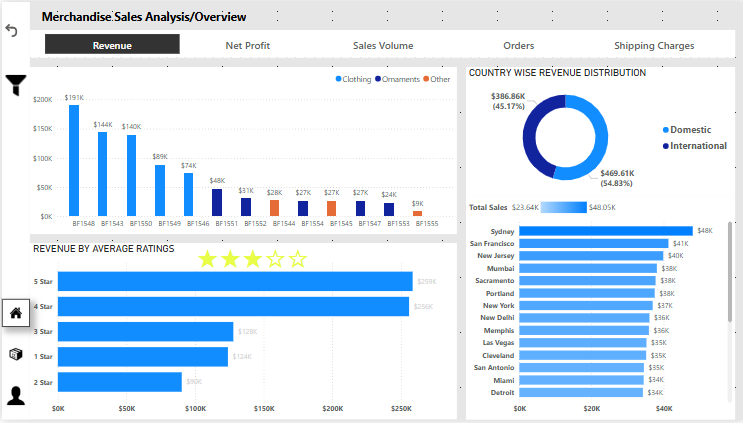

Layout of this report page (visuals, bound fields, positions):
{"tool":"powerbi","page":{"name":"Product Page","canvas":[1280,720],"ordinal":1},"visuals":[{"type":"textbox","box":[0,0,48,720],"z":0,"group":"g3"},{"type":"shape","box":[64,0,1216,48],"z":0},{"type":"donutChart","title":"COUNTRY WISE REVENUE DISTRIBUTION","fields":{"Y":["Measure DAX.Total Sales"],"Category":["Shipping Data.Shipping Details"]},"box":[800,112,464,224],"z":0,"group":"g1"},{"type":"barChart","title":"REVENUE BY AVERAGE RATINGS","fields":{"Category":["Rating Table.Label"],"Y":["Measure DAX.Total Sales"]},"box":[48,416,736,304],"z":0,"group":"g2"},{"type":"clusteredColumnChart","fields":{"Y":["Measure DAX.Total Sales"],"Category":["Product Data.Product ID"],"Series":["Product Data.Product Category"]},"box":[48,112,736,288],"z":1000},{"type":"barChart","fields":{"Y":["Measure DAX.Total Sales"],"Category":["Location Data.Order Location"]},"box":[800,336,464,384],"z":1000,"group":"g1"},{"type":"card","fields":{"Values":["Measure DAX.Stars Display"]},"box":[320,416,224,48],"z":1000,"group":"g2"},{"type":"image","box":[0,512,48,48],"z":1000,"group":"g3"},{"type":"slicer","fields":{"Values":["Metric Selector.Metric Selector"]},"box":[48,48,1216,48],"z":2000},{"type":"image","box":[0,592,48,32],"z":2000,"group":"g3"},{"type":"actionButton","box":[0,112,48,48],"z":3000},{"type":"image","box":[0,656,48,48],"z":3000,"group":"g3"},{"type":"actionButton","box":[0,112,48,64],"z":4000,"group":"g3"},{"type":"group","id":"g1","title":"Group 1","box":[800,112,464,608],"z":4000},{"type":"group","id":"g2","title":"Group 2","box":[48,416,736,304],"z":5000},{"type":"group","id":"g3","title":"Navigation background","box":[0,0,48,720],"z":6000},{"type":"actionButton","box":[0,32,48,32],"z":7000}]}

Visuals, with their boxes in screenshot pixels (x1, y1, x2, y2), scaled from the page's 1280x720 canvas onto the 743x423 screenshot:
textbox: <bbox>0, 0, 28, 422</bbox>
shape: <bbox>37, 0, 742, 28</bbox>
"COUNTRY WISE REVENUE DISTRIBUTION" donutChart: <bbox>464, 66, 734, 197</bbox>
"REVENUE BY AVERAGE RATINGS" barChart: <bbox>28, 244, 455, 422</bbox>
clusteredColumnChart - Measure DAX.Total Sales x Product Data.Product ID: <bbox>28, 66, 455, 235</bbox>
barChart - Measure DAX.Total Sales x Location Data.Order Location: <bbox>464, 197, 734, 422</bbox>
card - Measure DAX.Stars Display: <bbox>186, 244, 316, 273</bbox>
image: <bbox>0, 301, 28, 329</bbox>
slicer - Metric Selector.Metric Selector: <bbox>28, 28, 734, 56</bbox>
image: <bbox>0, 348, 28, 367</bbox>
actionButton: <bbox>0, 66, 28, 94</bbox>
image: <bbox>0, 385, 28, 414</bbox>
actionButton: <bbox>0, 66, 28, 103</bbox>
"Group 1" group: <bbox>464, 66, 734, 422</bbox>
"Group 2" group: <bbox>28, 244, 455, 422</bbox>
"Navigation background" group: <bbox>0, 0, 28, 422</bbox>
actionButton: <bbox>0, 19, 28, 38</bbox>
